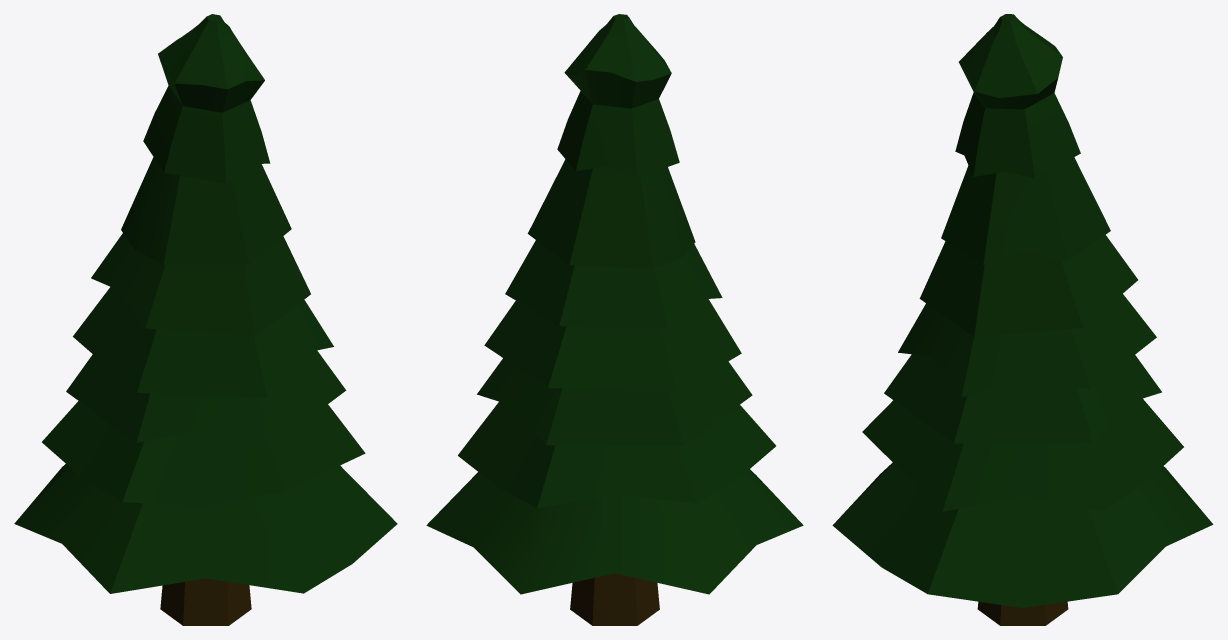
File: pine_tree.glb
3 views of the same model, side by side, from view 1: azimuth 30°, elevation 25°; view 2: azimuth 150°, elevation 25°; view 3: azimuth 270°, elevation 25° (orthographic).
Parts seen in each view (by area): view 1: Cylinder; view 2: Cylinder; view 3: Cylinder.
Part boxes in pixels (x1,y1,x2,y2): Cylinder: (14,14,397,625); Cylinder: (426,14,803,625); Cylinder: (832,14,1213,625).
Size of the model in its own units: 5.35 by 10.4 by 6.05.
